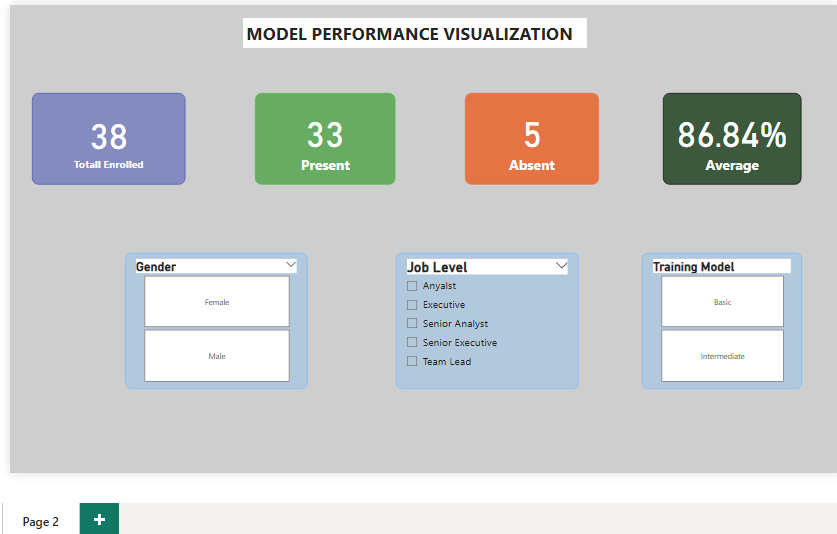

What the dashboard file says about the page in this screenshot:
{"tool":"powerbi","page":{"name":"Page 2","canvas":[1280,720],"ordinal":1},"visuals":[{"type":"card","fields":{"Values":["CountNonNull(Data.Name)"]},"box":[34.6,135.4,236.2,141.1],"z":0},{"type":"card","fields":{"Values":["CountNonNull(Data.Name)"]},"box":[377.3,135.4,216,141.1],"z":1000},{"type":"card","fields":{"Values":["CountNonNull(Data.Name)"]},"box":[699.8,135.4,205.9,141.1],"z":2000},{"type":"card","fields":{"Values":["Avg(Data.Attendance Status)"]},"box":[1005.1,135.4,213.1,141.1],"z":3000},{"type":"slicer","fields":{"Values":["Data.Gender"]},"box":[177.1,381.6,280.8,208.8],"z":4000},{"type":"slicer","fields":{"Values":["Data.Job Level"]},"box":[593.3,381.6,280.8,208.8],"z":4001},{"type":"slicer","fields":{"Values":["Data.Training Model"]},"box":[972,381.6,246.2,208.8],"z":4002},{"type":"textbox","box":[358.5,20,529.2,46.2],"z":4003}]}

Visuals, with their boxes on the page's 1280x720 design canvas (x1, y1, x2, y2). These are canvas units, not pixel positions in the 837x534 screenshot, which may show the page scaled, cropped or inside an application window:
card - CountNonNull(Data.Name): {"x1": 35, "y1": 135, "x2": 271, "y2": 276}
card - CountNonNull(Data.Name): {"x1": 377, "y1": 135, "x2": 593, "y2": 276}
card - CountNonNull(Data.Name): {"x1": 700, "y1": 135, "x2": 906, "y2": 276}
card - Avg(Data.Attendance Status): {"x1": 1005, "y1": 135, "x2": 1218, "y2": 276}
slicer - Data.Gender: {"x1": 177, "y1": 382, "x2": 458, "y2": 590}
slicer - Data.Job Level: {"x1": 593, "y1": 382, "x2": 874, "y2": 590}
slicer - Data.Training Model: {"x1": 972, "y1": 382, "x2": 1218, "y2": 590}
textbox: {"x1": 358, "y1": 20, "x2": 888, "y2": 66}
